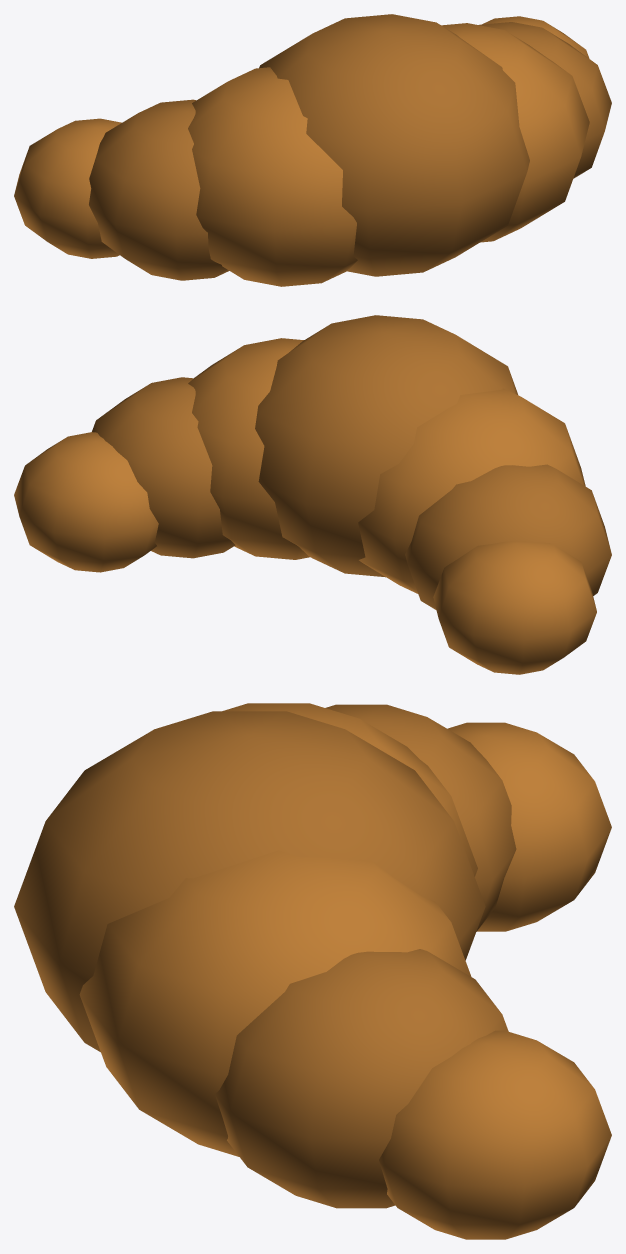
Rendered from food_croissant.glb.
3 views of the same model, one above another, from view 1: azimuth 30°, elevation 25°; view 2: azimuth 150°, elevation 25°; view 3: azimuth 270°, elevation 25° (orthographic). The views are drawn at different scales.
Visible parts, largest first — view 1: food_croissant; view 2: food_croissant; view 3: food_croissant.
Part boxes in pixels (box(x1,y1,x2,y2)): food_croissant: box(14, 14, 611, 286); food_croissant: box(14, 315, 611, 674); food_croissant: box(14, 703, 611, 1239).
Bounding box in the file's own units: 0.5338 × 0.208 × 0.3296.
